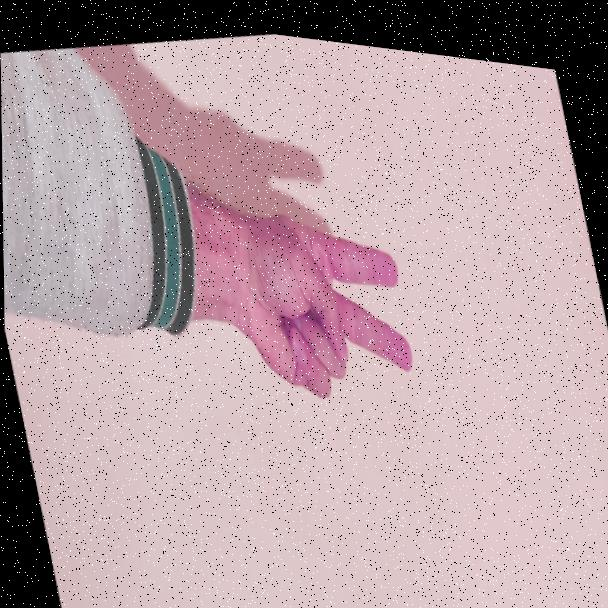two: (204, 154, 430, 424)
